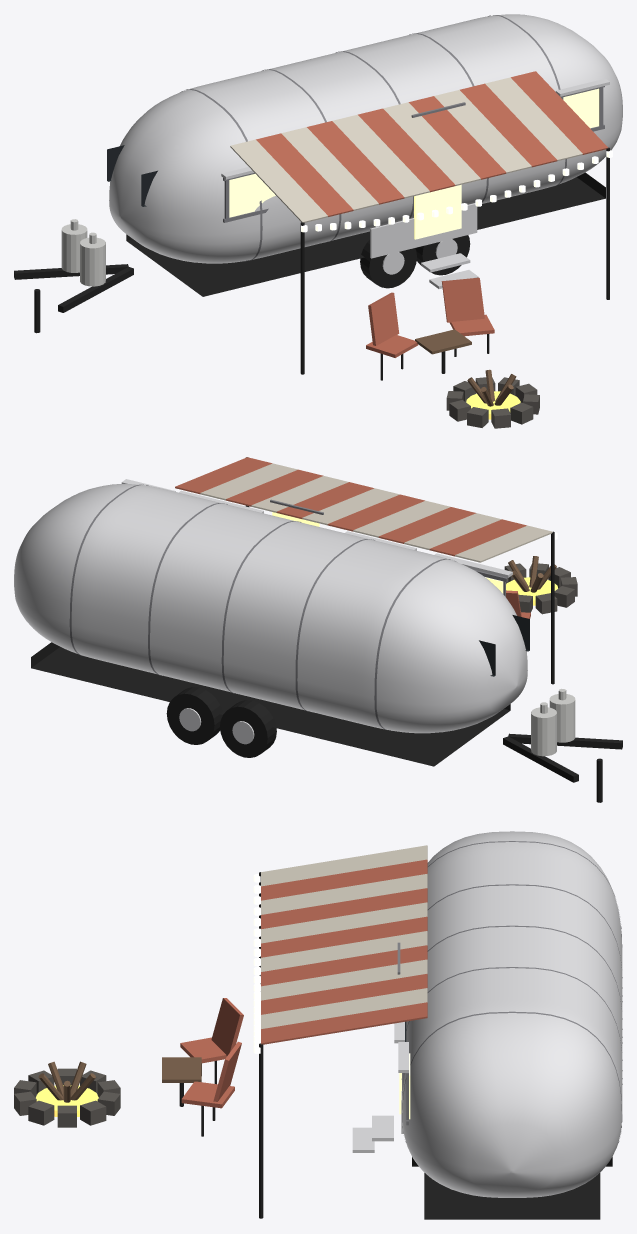
The model's file is trailer.glb.
3 views of the same model, one above another, from view 1: azimuth 30°, elevation 25°; view 2: azimuth 150°, elevation 25°; view 3: azimuth 270°, elevation 25° (orthographic). The views are drawn at different scales.
Visible parts, largest first — view 1: Shell.001, Trailer_canvasA, Trailer_canvasB, Trailer_dark, Trailer_alu, Trailer_warm, Trailer_stone, Trailer_tank, Trailer_wood, Trailer_bulb, Trailer_seam, Trailer_glass (+1 smaller); view 2: Shell.001, Trailer_dark, Trailer_canvasA, Trailer_canvasB, Trailer_tank, Trailer_alu, Trailer_stone, Trailer_wood, Trailer_glass, Seam-0.62, Seam-0.3, Seam0.0 (+1 smaller); view 3: Shell.001, Trailer_canvasA, Trailer_canvasB, Trailer_dark, Trailer_stone, Trailer_wood, Trailer_alu, Trailer_bulb, Trailer_ember.
Part boxes in pixels (bbox=[...]): Shell.001: bbox=[109, 14, 622, 263]; Trailer_canvasA: bbox=[256, 71, 608, 357]; Trailer_canvasB: bbox=[230, 77, 582, 222]; Trailer_dark: bbox=[14, 147, 609, 380]; Trailer_alu: bbox=[221, 78, 609, 288]; Trailer_warm: bbox=[229, 88, 599, 239]; Trailer_stone: bbox=[446, 377, 539, 428]; Trailer_tank: bbox=[61, 219, 105, 286]; Trailer_wood: bbox=[415, 329, 516, 406]; Trailer_bulb: bbox=[301, 150, 612, 232]; Trailer_seam: bbox=[223, 86, 604, 222]; Trailer_glass: bbox=[107, 145, 157, 206]; Shell.001: bbox=[14, 484, 527, 733]; Trailer_dark: bbox=[31, 457, 622, 802]; Trailer_canvasA: bbox=[175, 457, 530, 618]; Trailer_canvasB: bbox=[200, 463, 552, 562]; Trailer_tank: bbox=[531, 688, 575, 756]; Trailer_alu: bbox=[121, 479, 512, 744]; Trailer_stone: bbox=[504, 563, 577, 614]; Trailer_wood: bbox=[508, 556, 556, 592]; Trailer_glass: bbox=[479, 615, 529, 676]; Seam-0.62: bbox=[374, 558, 456, 730]; Seam-0.3: bbox=[295, 539, 374, 711]; Seam0.0: bbox=[221, 521, 301, 694]; Shell.001: bbox=[402, 831, 622, 1197]; Trailer_canvasA: bbox=[180, 859, 427, 1108]; Trailer_canvasB: bbox=[261, 845, 427, 1028]; Trailer_dark: bbox=[179, 872, 612, 1219]; Trailer_stone: bbox=[14, 1068, 120, 1127]; Trailer_wood: bbox=[38, 1057, 201, 1102]; Trailer_alu: bbox=[352, 1022, 408, 1152]; Trailer_bulb: bbox=[253, 874, 260, 1053]; Trailer_ember: bbox=[36, 1085, 98, 1116].
Size of the model in its own units: 8.69 by 2.77 by 6.91.
